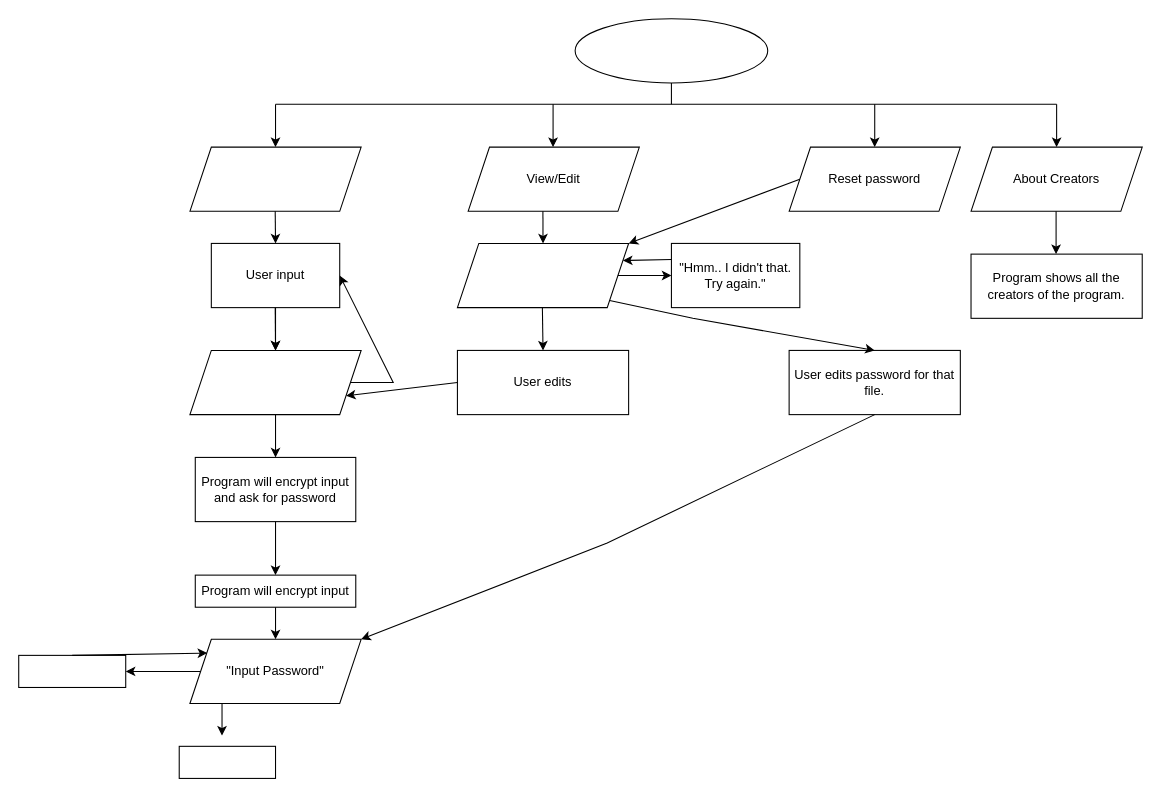
Image size: 1161x797. Some labels were removed from this diagram. The shapes that lost their labels are listed below. From the top down, each one's box as (x1, y1, x2, y2) in pixels, then its label:
(574, 18, 768, 83): Menu
(189, 146, 361, 211): Make a new entry
(456, 242, 629, 308): "Choose what file to edit."
(189, 349, 361, 415): "Are you happy with what you enter?"
(18, 654, 126, 687): "Try Again."
(178, 745, 276, 778): "Entry Saved"
